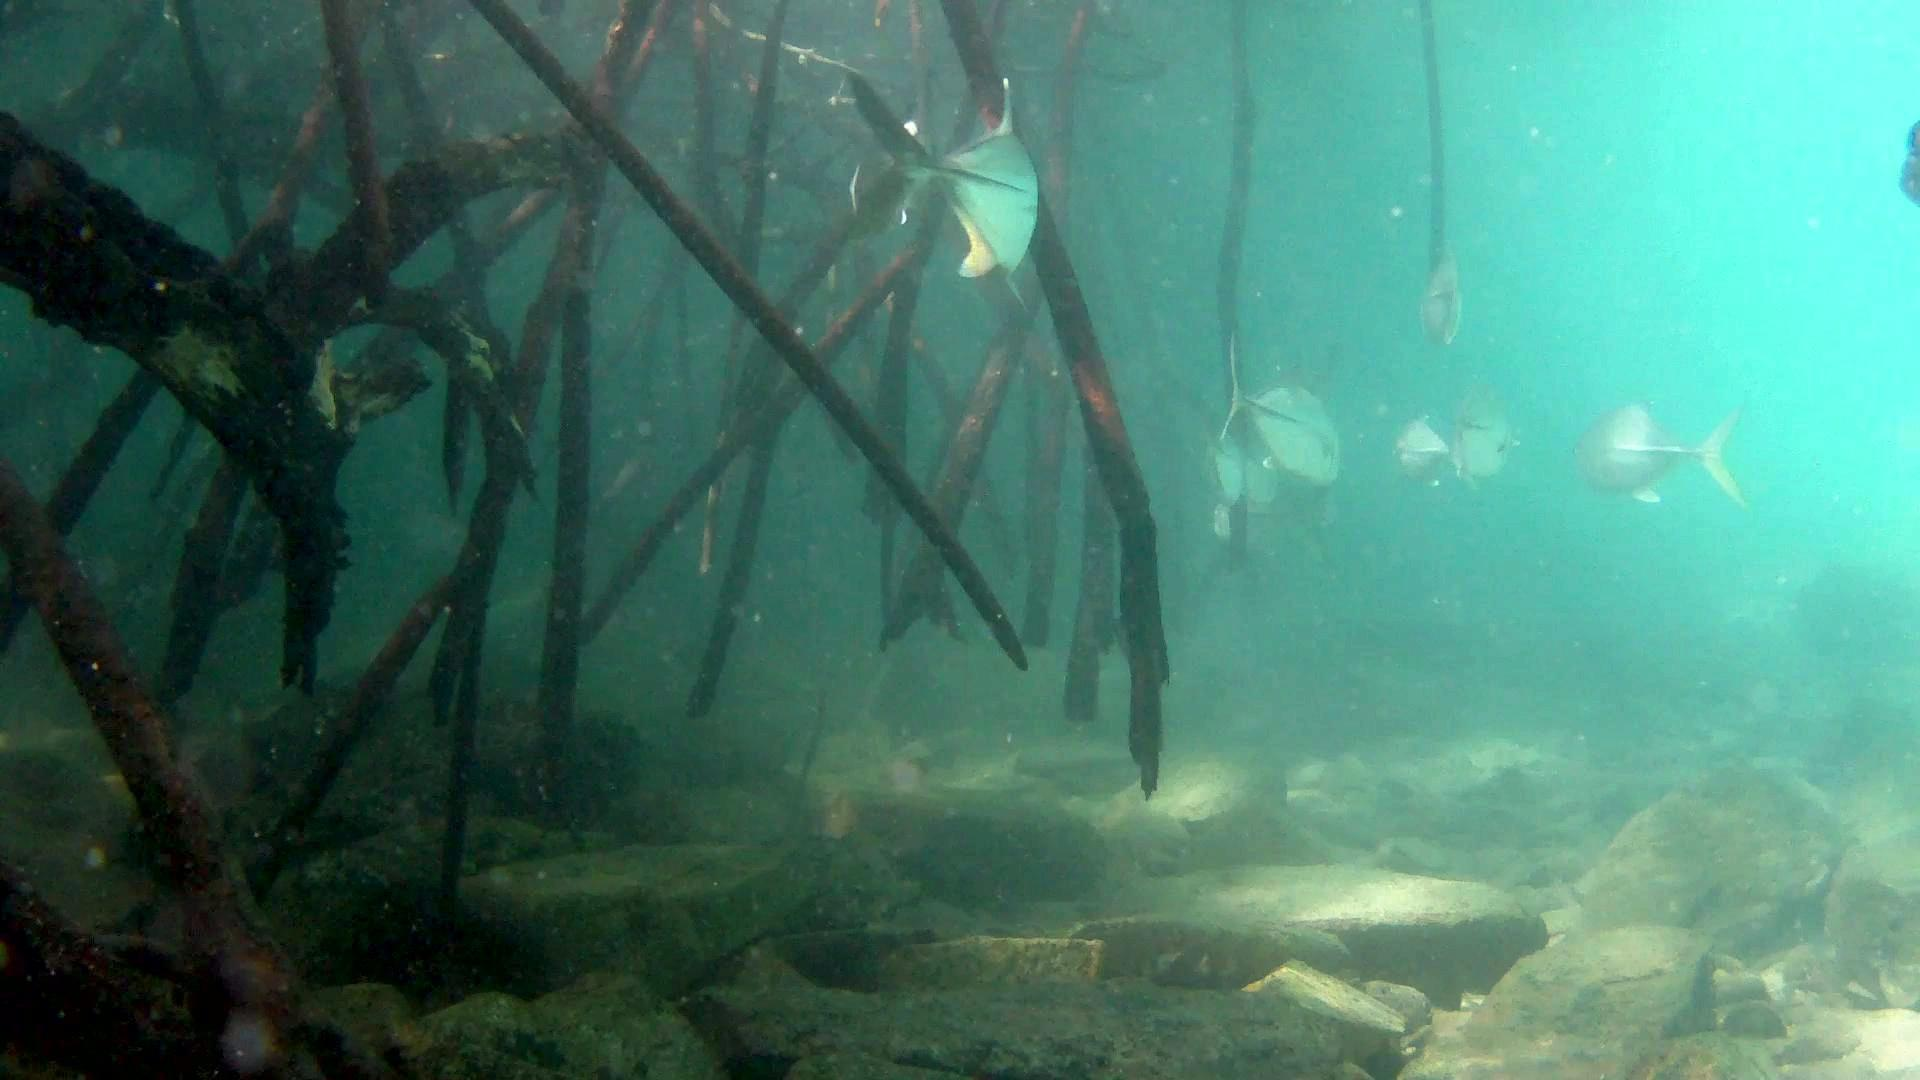caranx: (831, 37, 1058, 290)
